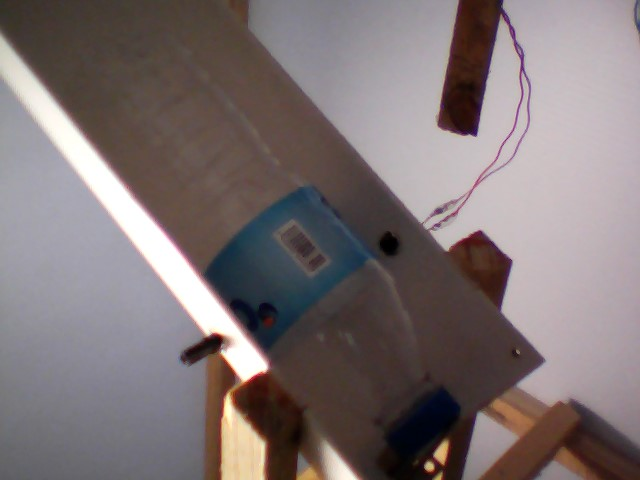plastico: (68, 27, 466, 464)
